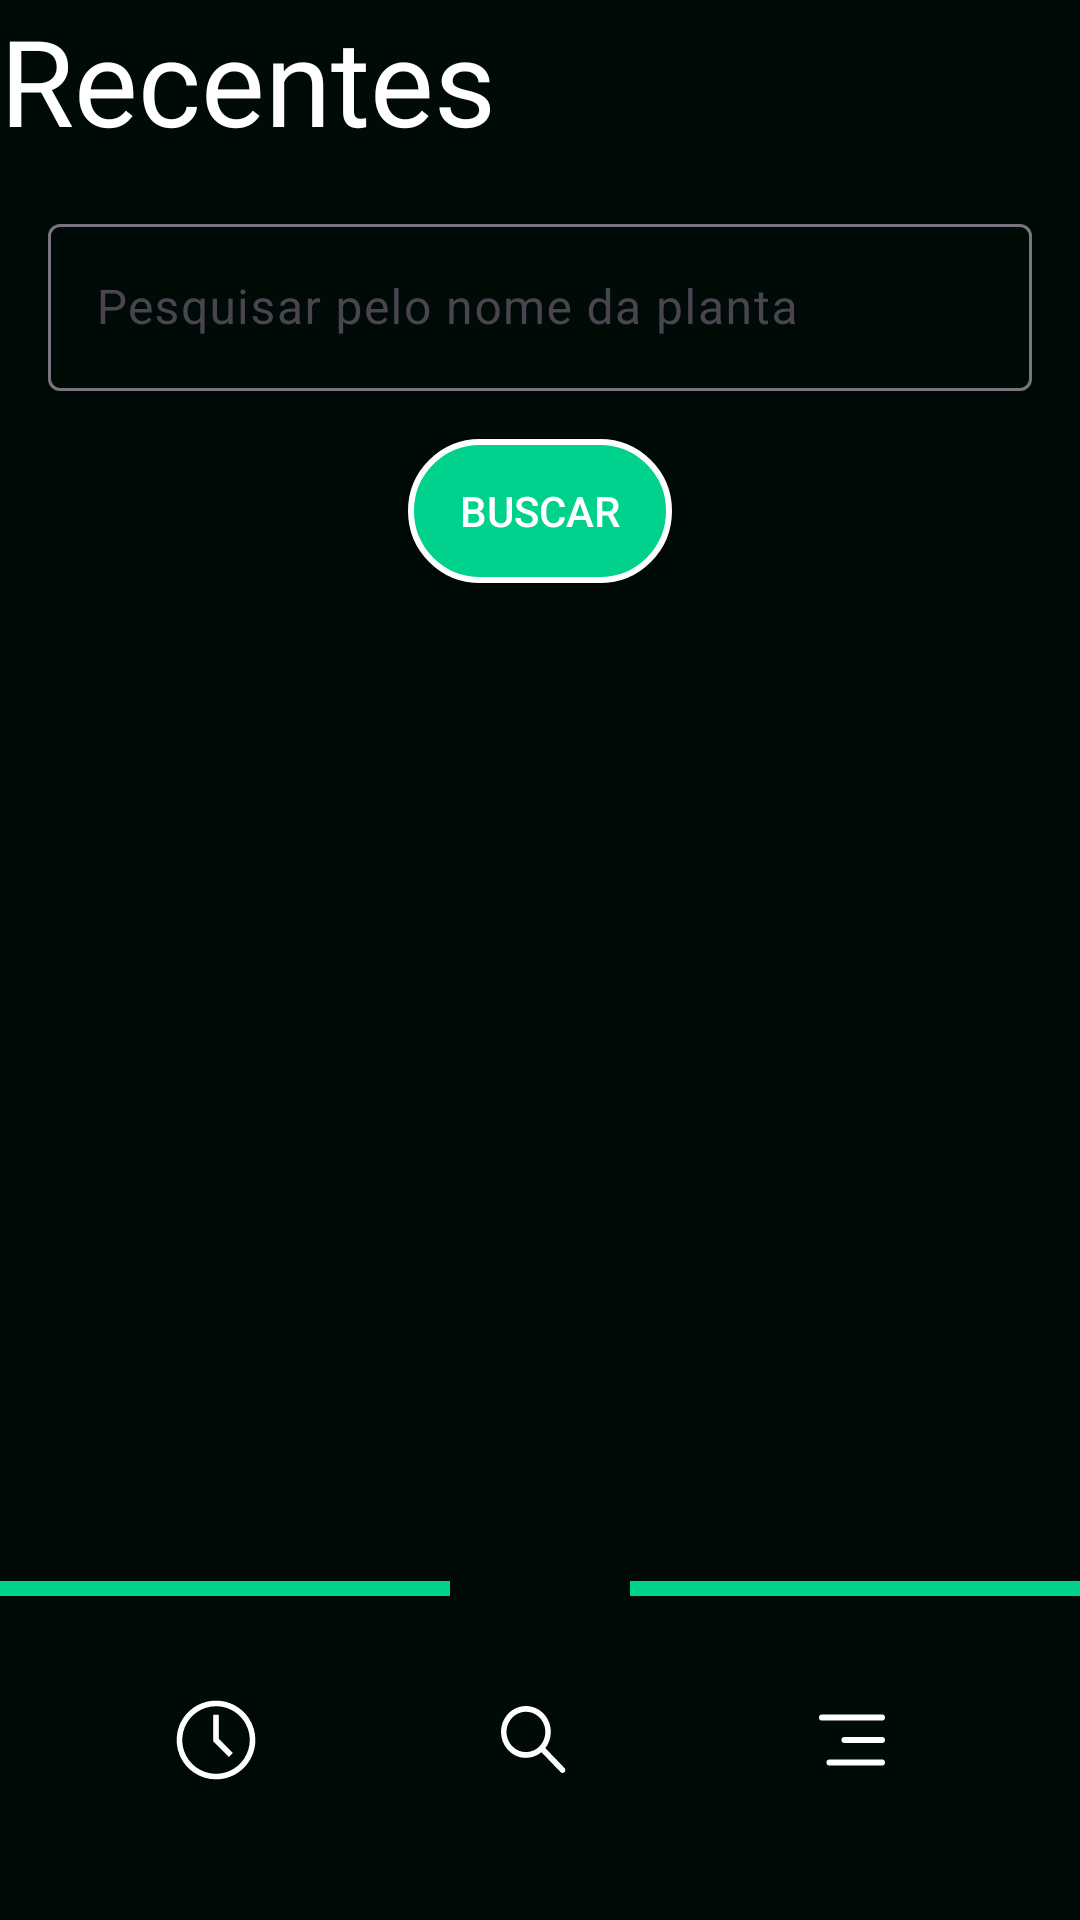

Icons on this 1080px×1920px Android screen, each with the point to tap as (x=x, y=y):
Listar: (x=852, y=1740)
Pesquisa: (x=533, y=1739)
RELOGIO: (x=216, y=1740)
